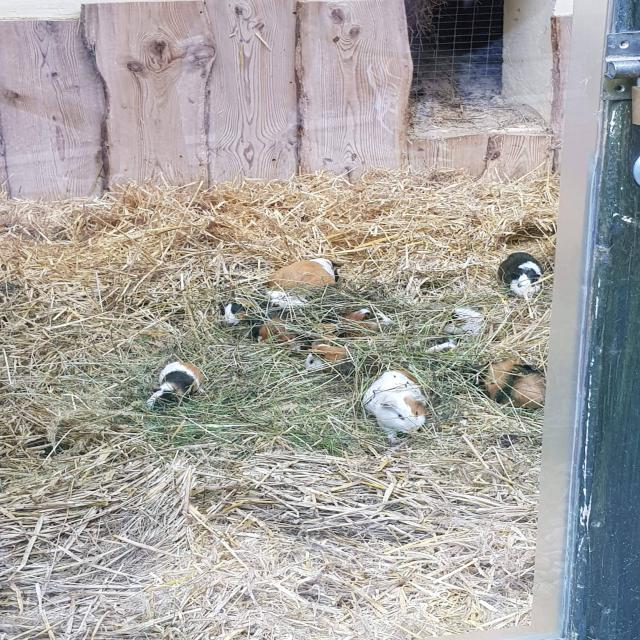guinea pig: (359, 368, 428, 442), (468, 359, 544, 413), (146, 360, 208, 410), (305, 340, 373, 378), (496, 249, 544, 300), (328, 308, 388, 333), (220, 304, 245, 324)
